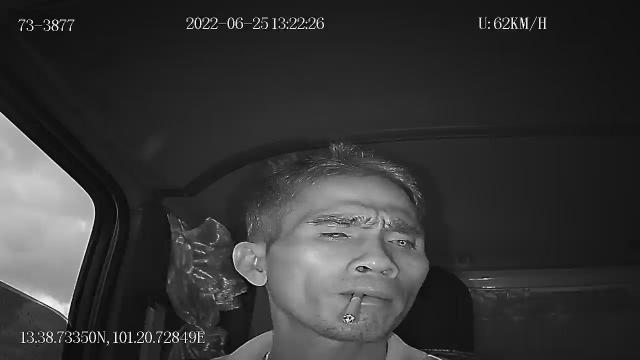SafeDriving: (378, 228, 424, 252), (310, 222, 360, 244)
Smoking: (343, 292, 363, 324)
